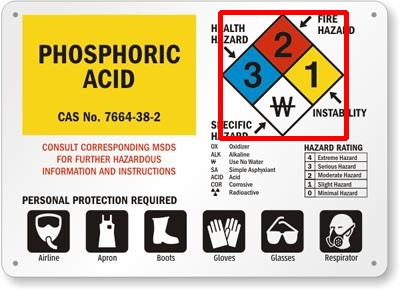nfpa: (220, 12, 346, 138)
